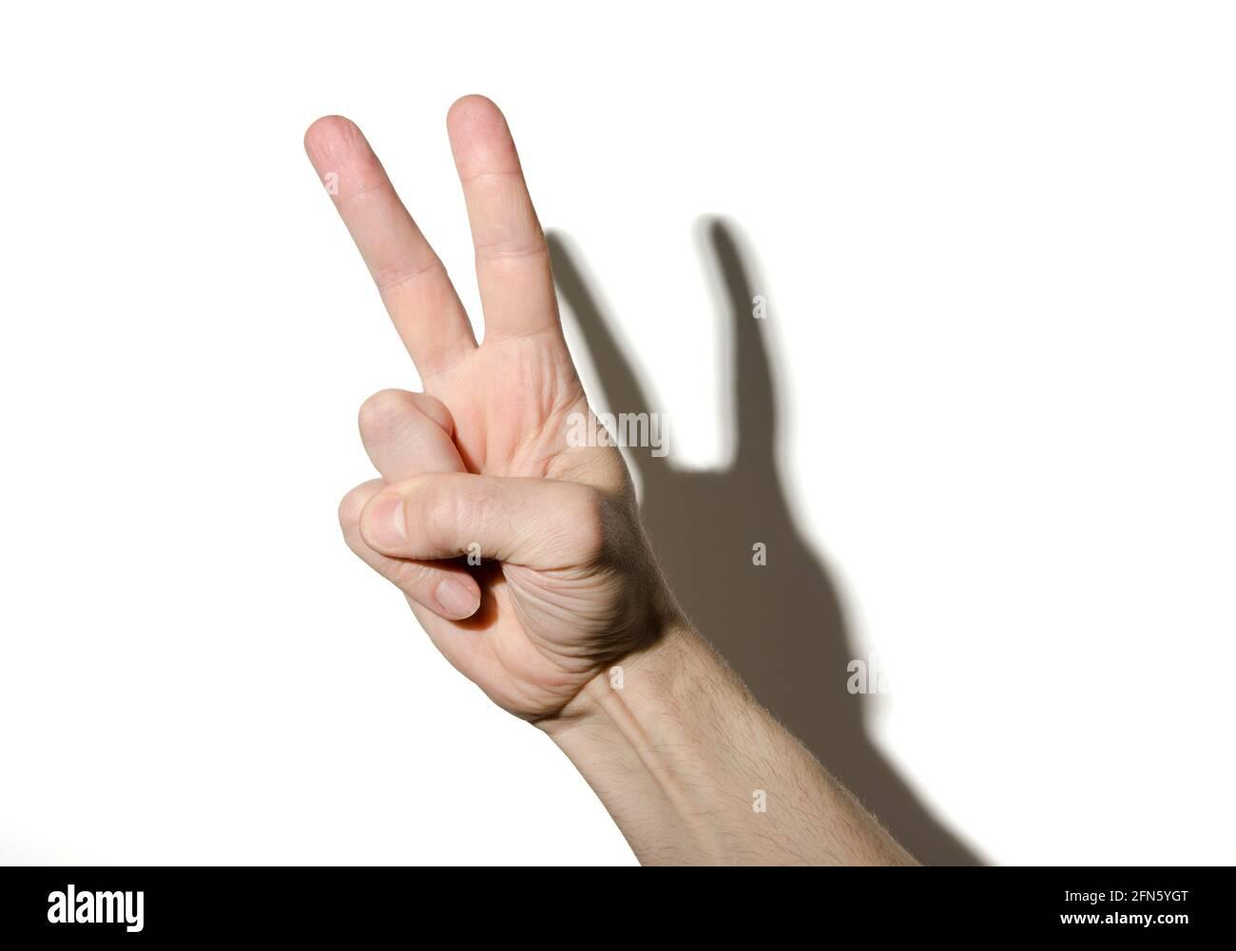peace_sign: (289, 91, 750, 740)
